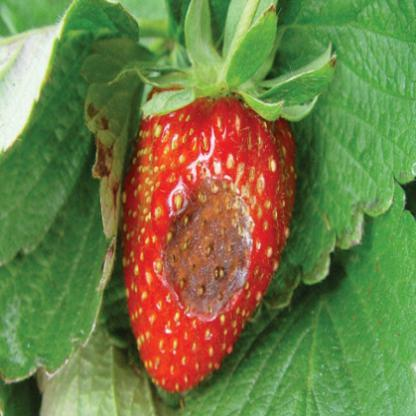Strawberry_Anthracnose_Fruit_Rot: (150, 169, 266, 328)
